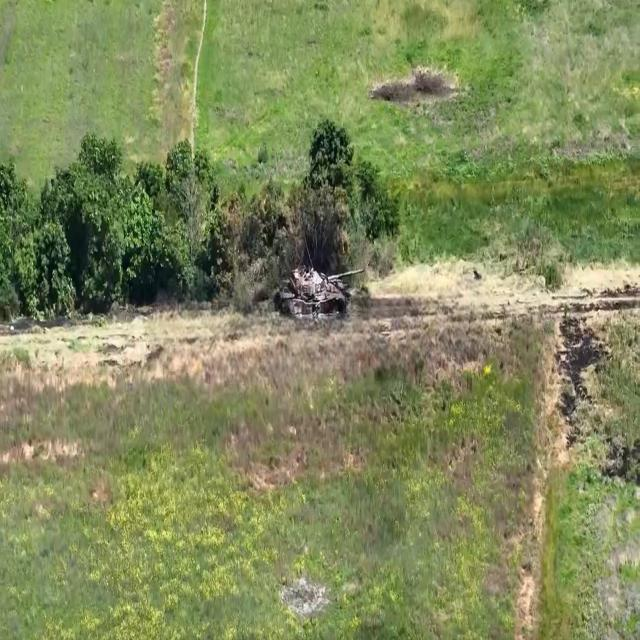MBT: (277, 266, 367, 323)
